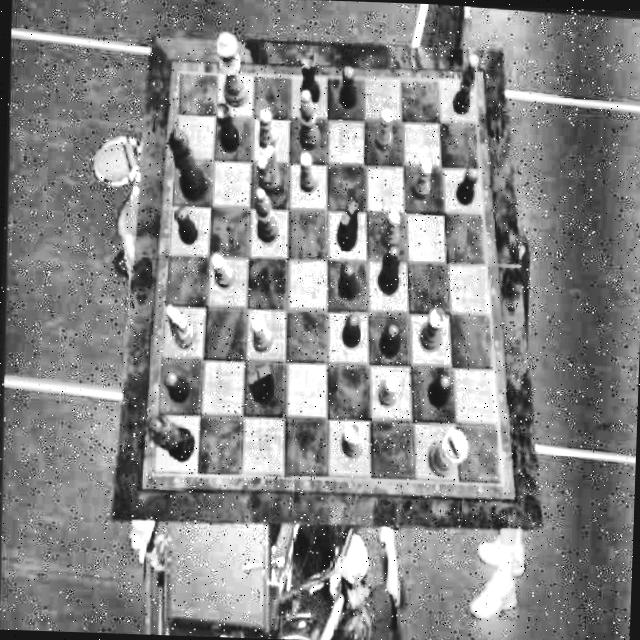black-bishop: (450, 50, 478, 112), (376, 242, 400, 292)
black-king: (143, 412, 195, 462)
black-knight: (334, 198, 358, 249), (245, 362, 272, 402)
black-pawn: (173, 203, 198, 243), (454, 162, 478, 203), (338, 63, 357, 107), (162, 372, 189, 402), (376, 320, 398, 355), (426, 370, 448, 404), (339, 309, 359, 346), (336, 261, 356, 298)
black-queen: (166, 126, 208, 201)
black-rook: (213, 101, 240, 152), (298, 52, 321, 102)
white-bishop: (296, 85, 321, 147), (250, 186, 277, 242)
white-king: (424, 424, 468, 474)
white-knight: (162, 302, 194, 348), (254, 143, 280, 192)
white-pawn: (206, 252, 232, 288), (409, 155, 431, 197), (372, 106, 392, 150), (296, 150, 316, 192), (255, 106, 275, 148), (380, 206, 400, 247), (248, 314, 270, 351), (375, 374, 397, 404)
white-queen: (212, 30, 250, 107)
white-rook: (416, 304, 444, 348), (338, 419, 362, 459)
